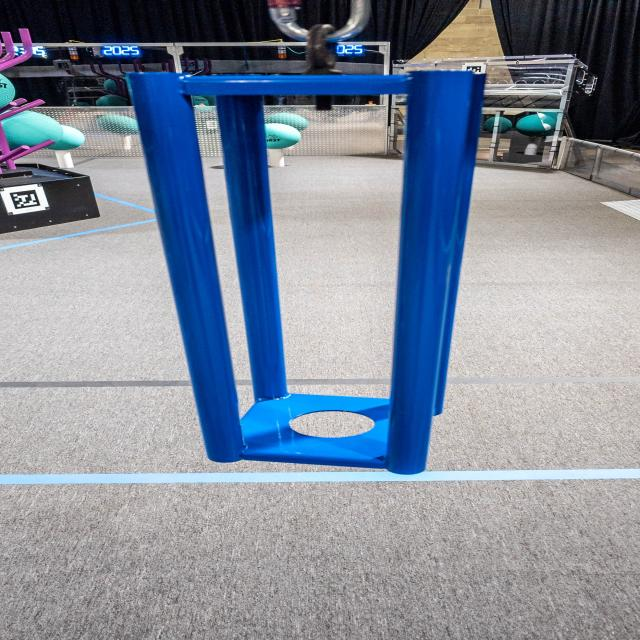Algae: (0, 110, 63, 150), (44, 125, 84, 150), (264, 123, 302, 149), (0, 72, 16, 110)
Coral: (55, 150, 74, 168), (268, 148, 284, 167)
